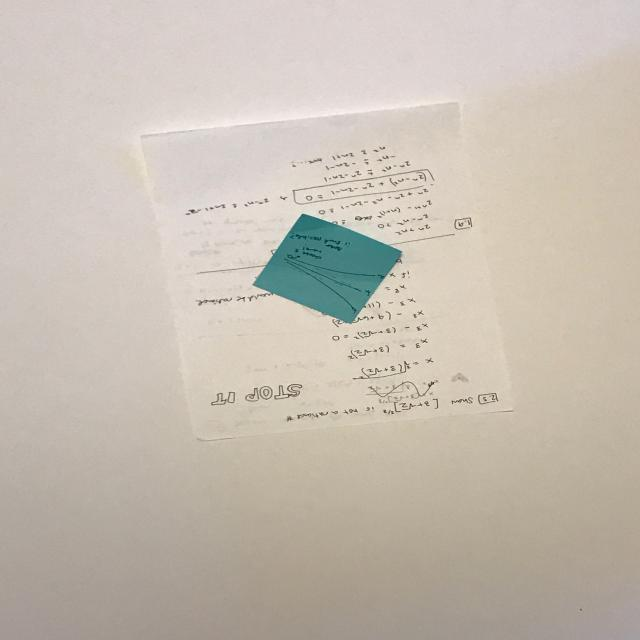paper: (138, 100, 516, 441)
